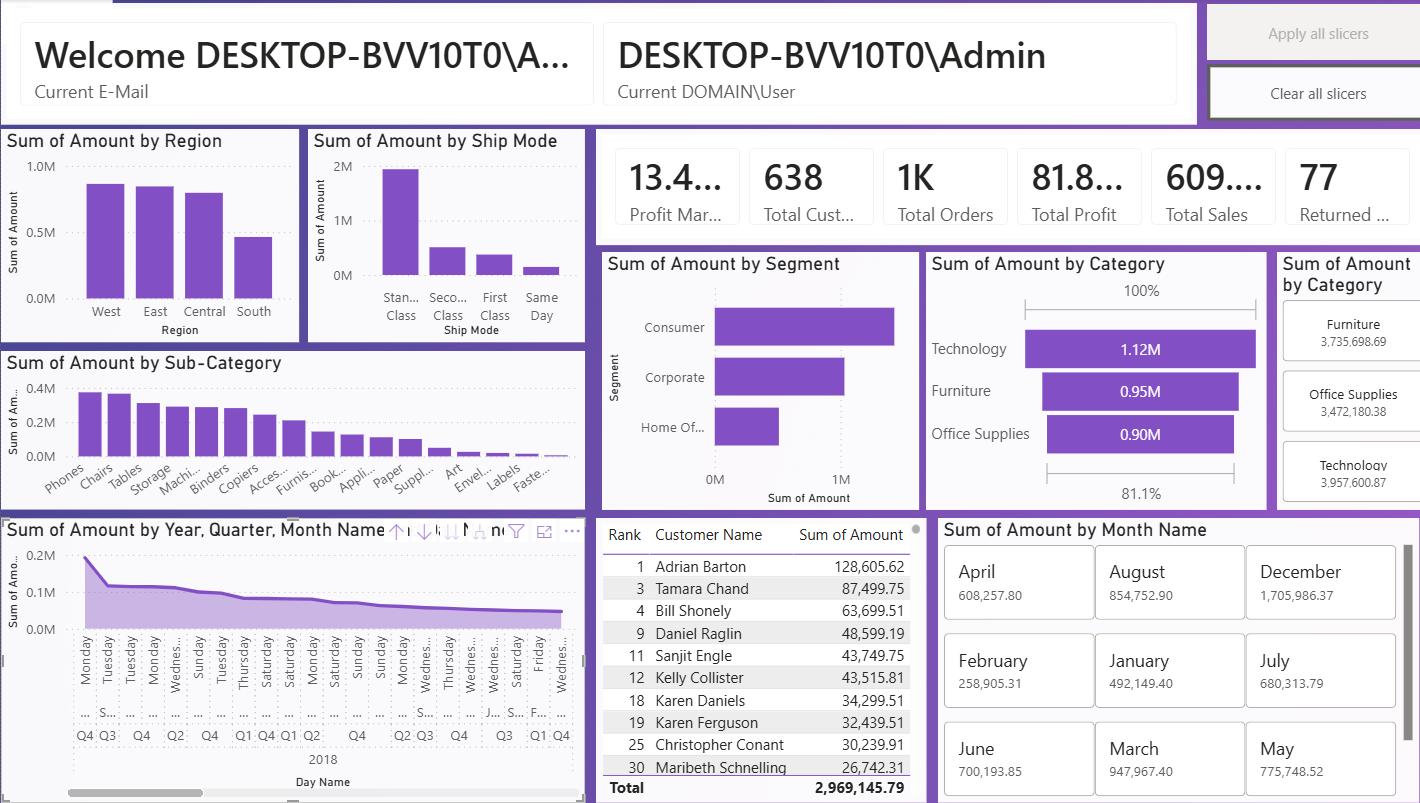

The page's visual inventory and layout, read from the dashboard file:
{"tool":"powerbi","page":{"name":"Page 1","canvas":[1280,720],"ordinal":0},"visuals":[{"type":"cardVisual","fields":{"Data":["Orders.Profit Margin %","Orders.Total Customers","Orders.Total Orders","Orders.Total Profit","Orders.Total Sales","Returns.Returned Orders"]},"box":[532.8,116.4,746.9,103.9],"z":0},{"type":"barChart","fields":{"Y":["Sum(Orders.Amount)"],"Category":["Orders.Segment"]},"box":[538.2,226.6,283.9,231],"z":1000},{"type":"funnel","fields":{"Category":["Orders.Category"],"Y":["Sum(Orders.Amount)"]},"box":[828.4,226.6,305.4,231],"z":2000},{"type":"clusteredColumnChart","fields":{"Category":["Orders.Ship Mode"],"Y":["Sum(Orders.Amount)"]},"box":[274.9,116.4,248.1,190.7],"z":3000},{"type":"clusteredColumnChart","fields":{"Y":["Sum(Orders.Amount)"],"Category":["Orders.Region"]},"box":[0,116.4,266.9,190.7],"z":4000},{"type":"clusteredColumnChart","fields":{"Y":["Sum(Orders.Amount)"],"Category":["Orders.Sub-Category"]},"box":[0,315.2,523,142.4],"z":5000},{"type":"areaChart","fields":{"Category":["Date Table.Year Hierarchy.Year","Date Table.Year Hierarchy.Quarter","Date Table.Year Hierarchy.Month Name","Date Table.Year Hierarchy.Day Name"],"Y":["Sum(Orders.Amount)"]},"box":[0,464.8,523,255.2],"z":6000},{"type":"tableEx","fields":{"Values":["Orders.Rank","Orders.Customer Name","Sum(Orders.Amount)"]},"box":[532.8,464.8,295.5,255.2],"z":7000},{"type":"actionButton","box":[1080,4.5,199.7,50.1],"z":9000},{"type":"actionButton","box":[1080,58.2,199.7,51],"z":10000},{"type":"advancedSlicerVisual","fields":{"Label":["Sum(Orders.Amount)"],"Values":["Date Table.Month Name"]},"box":[839.1,464.8,430.7,255.2],"z":11000},{"type":"actionButton","box":[0,0,100,40],"z":12000},{"type":"advancedSlicerVisual","fields":{"Values":["Orders.Category"],"Label":["Sum(Orders.Amount)"]},"box":[1142.7,226.6,137,231],"z":13000},{"type":"cardVisual","fields":{"Data":["People.Current E-Mail","People.Current DOMAIN\\User"]},"box":[0,3.6,1071,109.3],"z":14000}]}

Visuals, with their boxes in screenshot pixels (x1, y1, x2, y2), scaled from the page's 1280x720 canvas onto the 1420x803 screenshot:
cardVisual - Orders.Profit Margin % x Orders.Total Customers: box(591, 130, 1419, 246)
barChart - Sum(Orders.Amount) x Orders.Segment: box(597, 253, 912, 510)
funnel - Orders.Category x Sum(Orders.Amount): box(919, 253, 1258, 510)
clusteredColumnChart - Orders.Ship Mode x Sum(Orders.Amount): box(305, 130, 580, 343)
clusteredColumnChart - Sum(Orders.Amount) x Orders.Region: box(0, 130, 296, 343)
clusteredColumnChart - Sum(Orders.Amount) x Orders.Sub-Category: box(0, 352, 580, 510)
areaChart - Date Table.Year Hierarchy.Year x Date Table.Year Hierarchy.Quarter: box(0, 518, 580, 802)
tableEx - Orders.Rank x Orders.Customer Name: box(591, 518, 919, 802)
actionButton: box(1198, 5, 1419, 61)
actionButton: box(1198, 65, 1419, 122)
advancedSlicerVisual - Sum(Orders.Amount) x Date Table.Month Name: box(931, 518, 1409, 802)
actionButton: box(0, 0, 111, 45)
advancedSlicerVisual - Orders.Category x Sum(Orders.Amount): box(1268, 253, 1419, 510)
cardVisual - People.Current E-Mail x People.Current DOMAIN\User: box(0, 4, 1188, 126)
